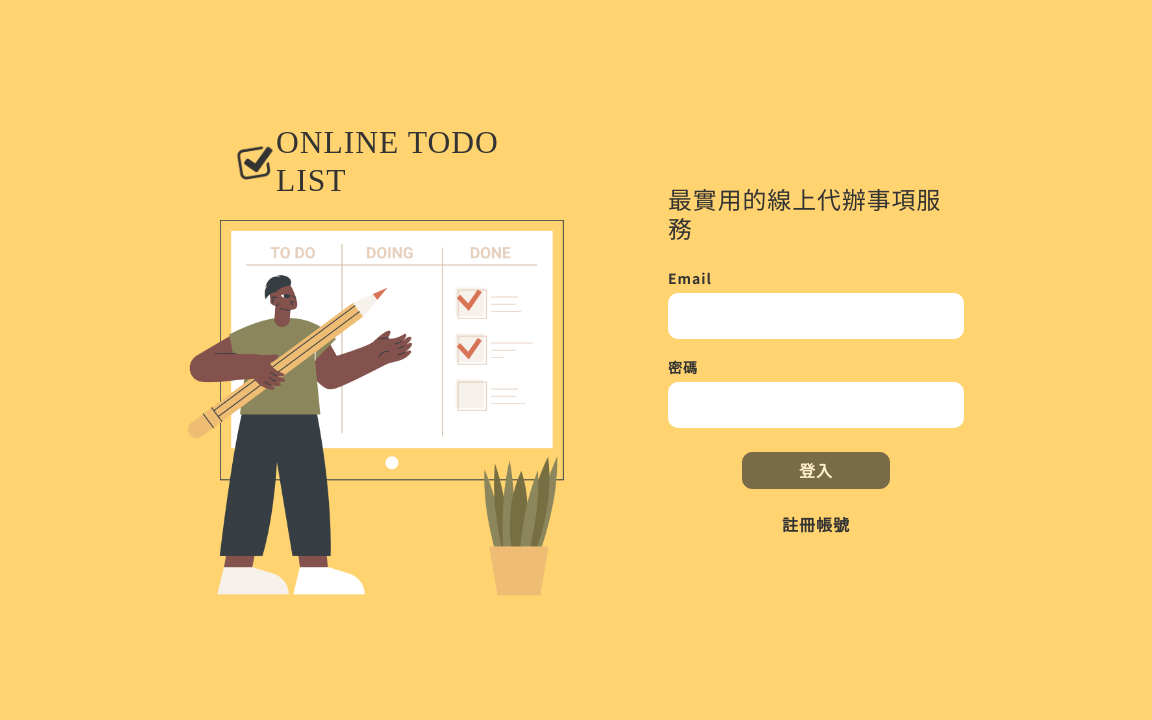
Test: Login › 儲存登入資料在localStorage
In the field labelled "Email": (816, 316) [668,293,964,339], type "fasdf@gmail.com"
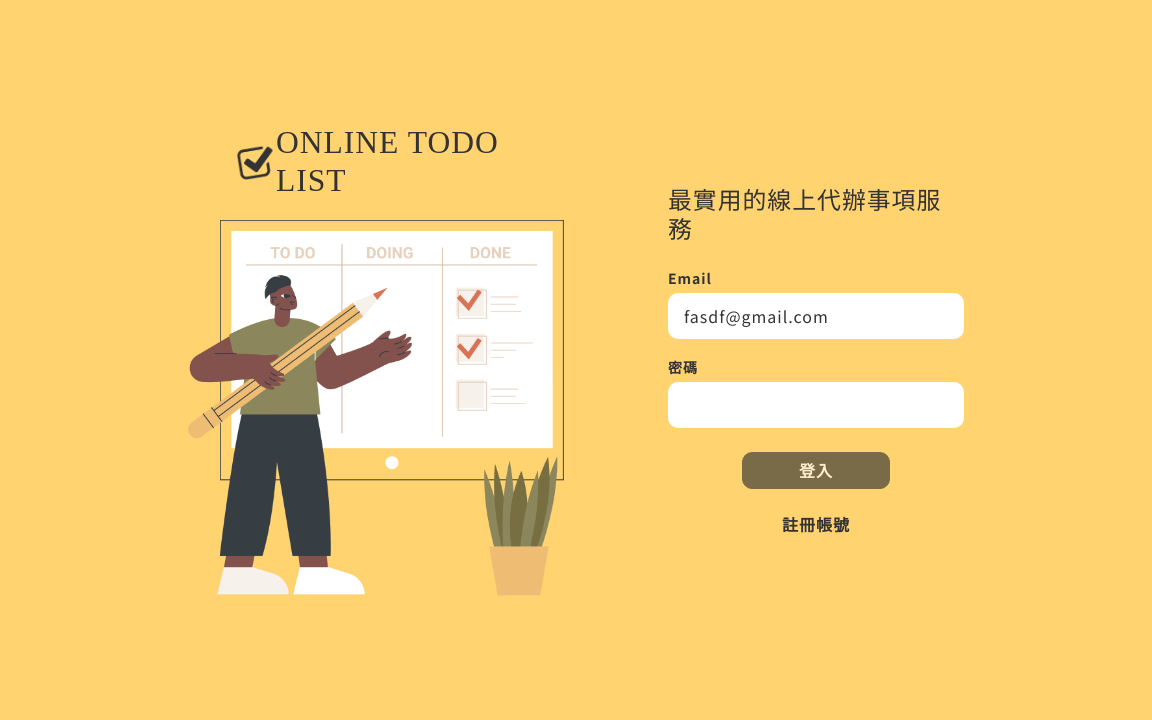
In the password field labelled "密碼": (816, 405) [668,382,964,428], type "faasdf"
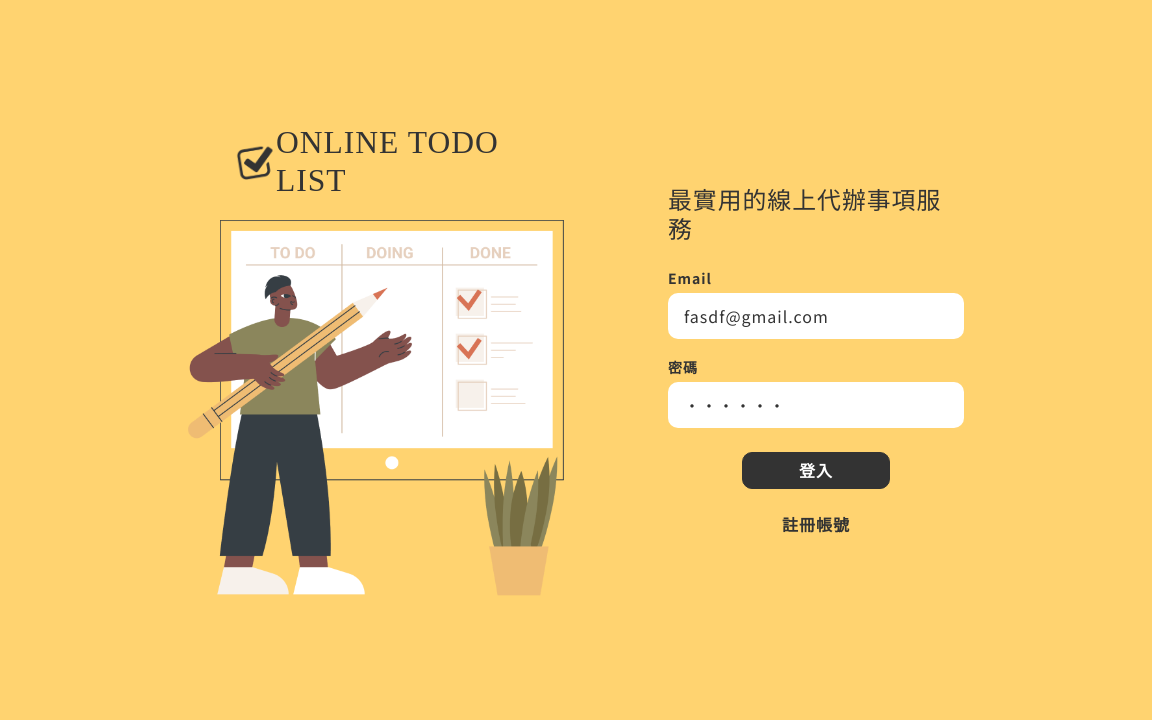
Click the button "登入": (816, 470) [742,452,890,489]
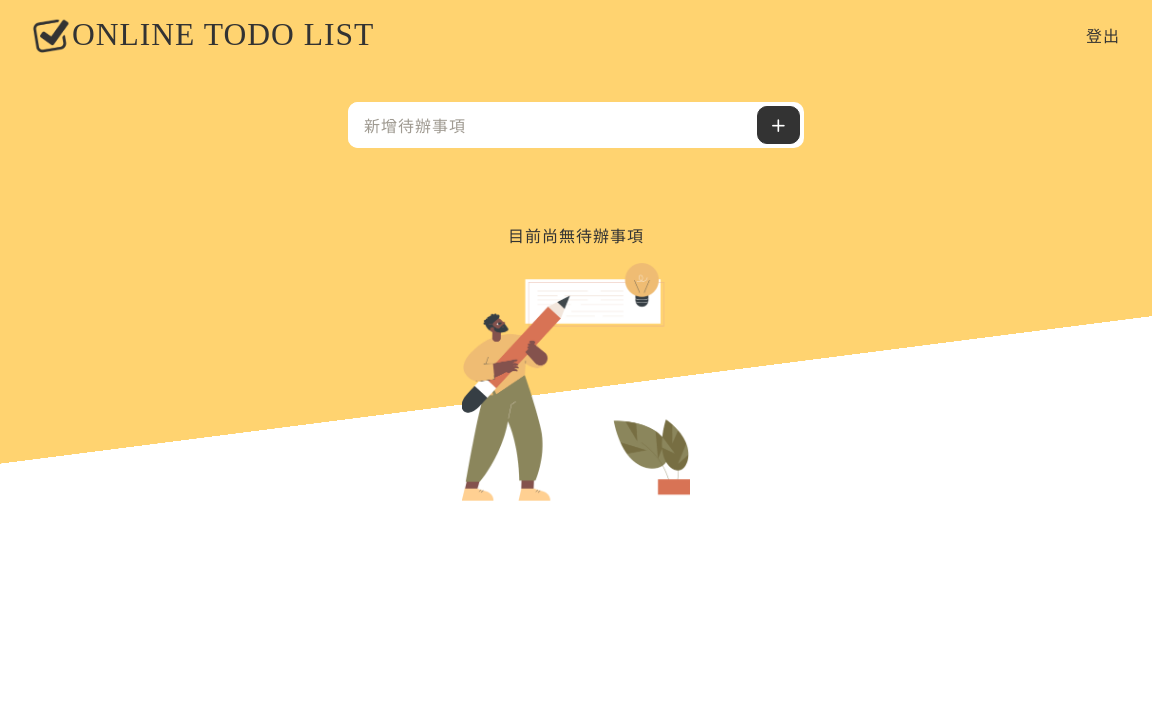
expect the element with test id "home-page" is shown: met
